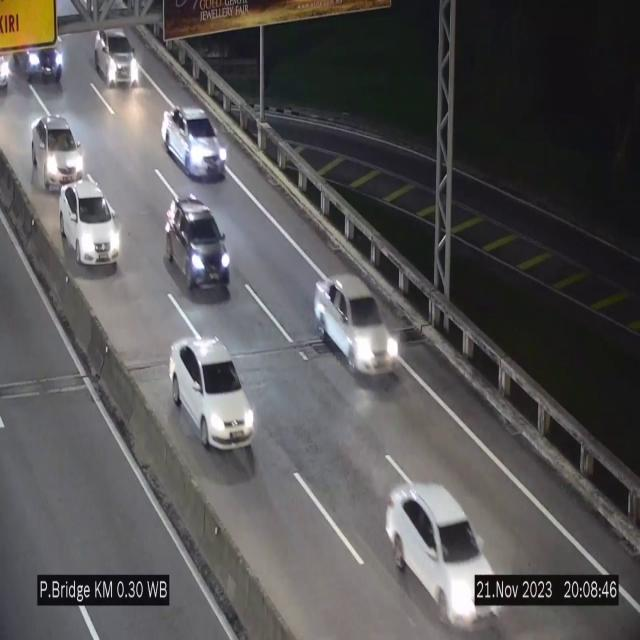Car: (385, 480, 500, 637), (169, 338, 255, 450), (313, 276, 401, 378), (164, 196, 230, 296), (25, 106, 95, 192), (59, 177, 120, 267), (162, 107, 226, 177), (11, 25, 65, 91), (95, 29, 141, 85)
